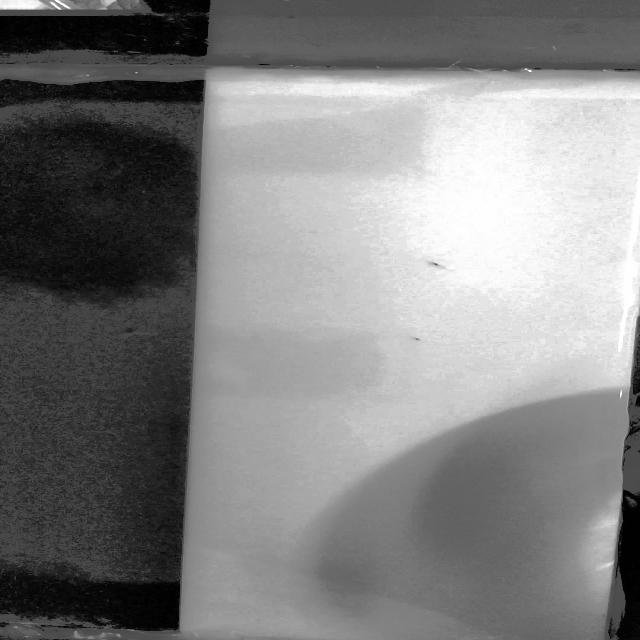shrimp: (414, 256, 457, 273), (404, 330, 430, 346)
